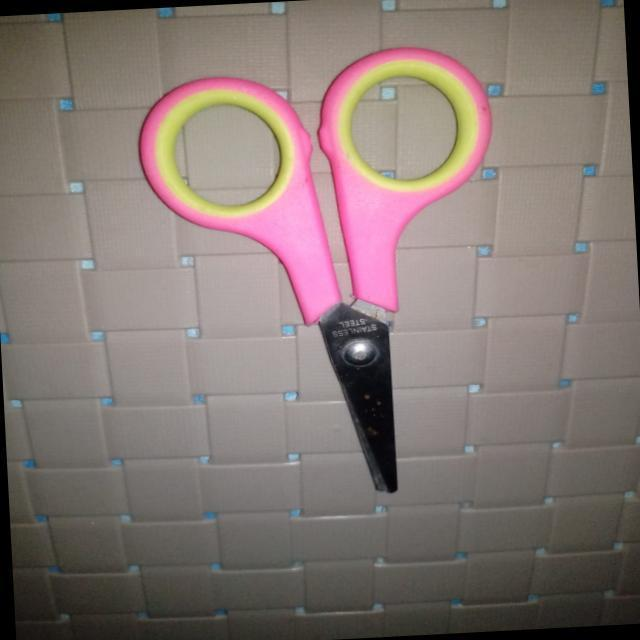scissors: (106, 34, 528, 537)
